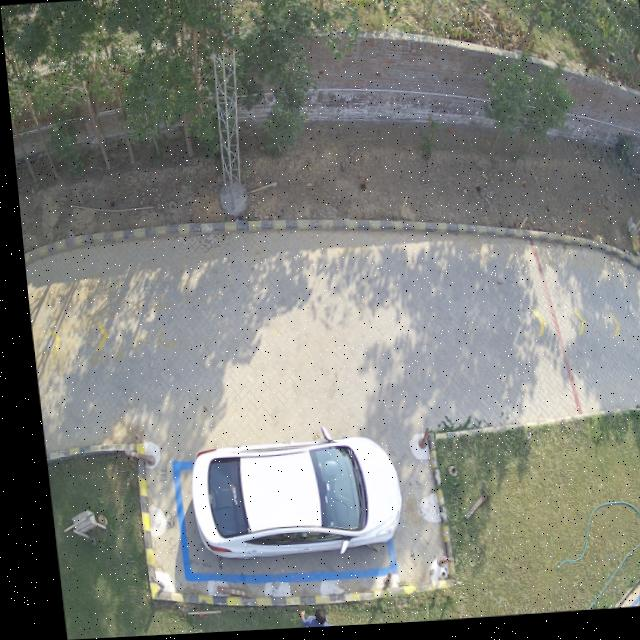car: (177, 440, 391, 574)
